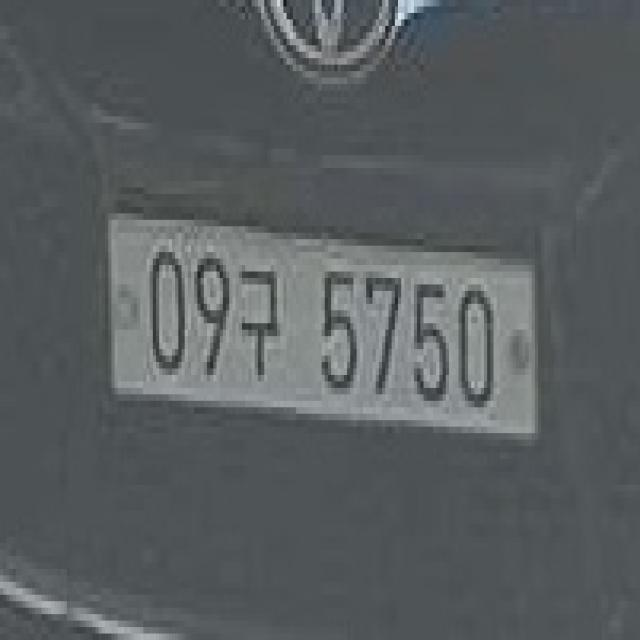plat: (104, 208, 541, 437)
